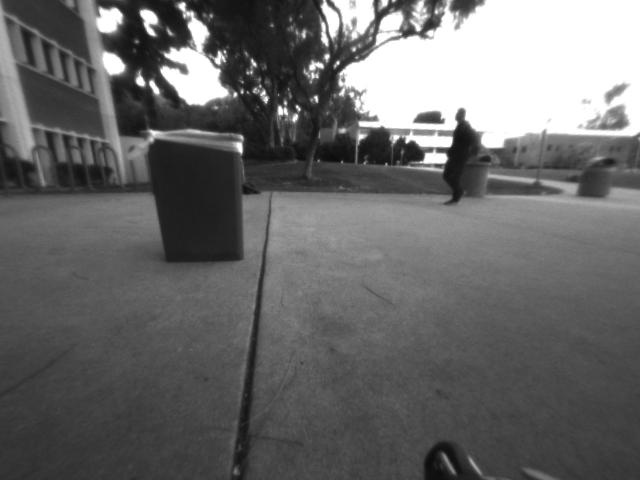trashcan: (134, 123, 257, 271)
